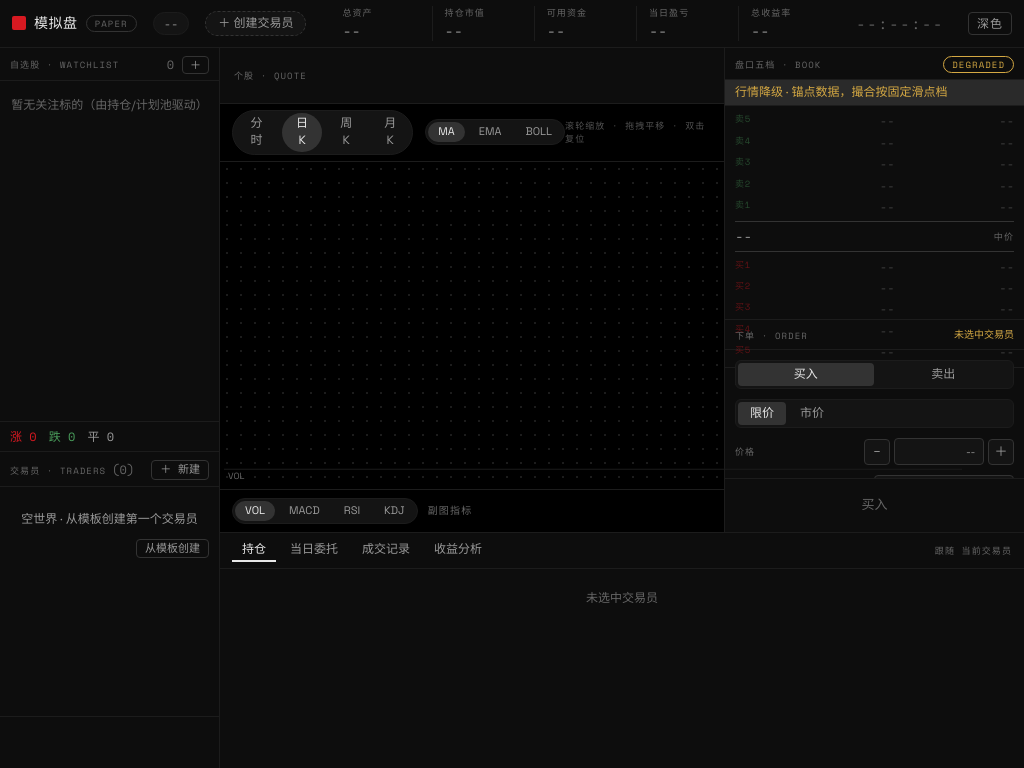
App 栅格外壳（01 §2.2 一屏五区） › 顶栏主题三态切换按钮（C002：浅色→深色→跟随系统 循环）
The width and height of the screenshot is (1024, 768).
Step 1. Click the button "深色" → point(990, 24), box left=968, top=12, right=1012, bottom=35
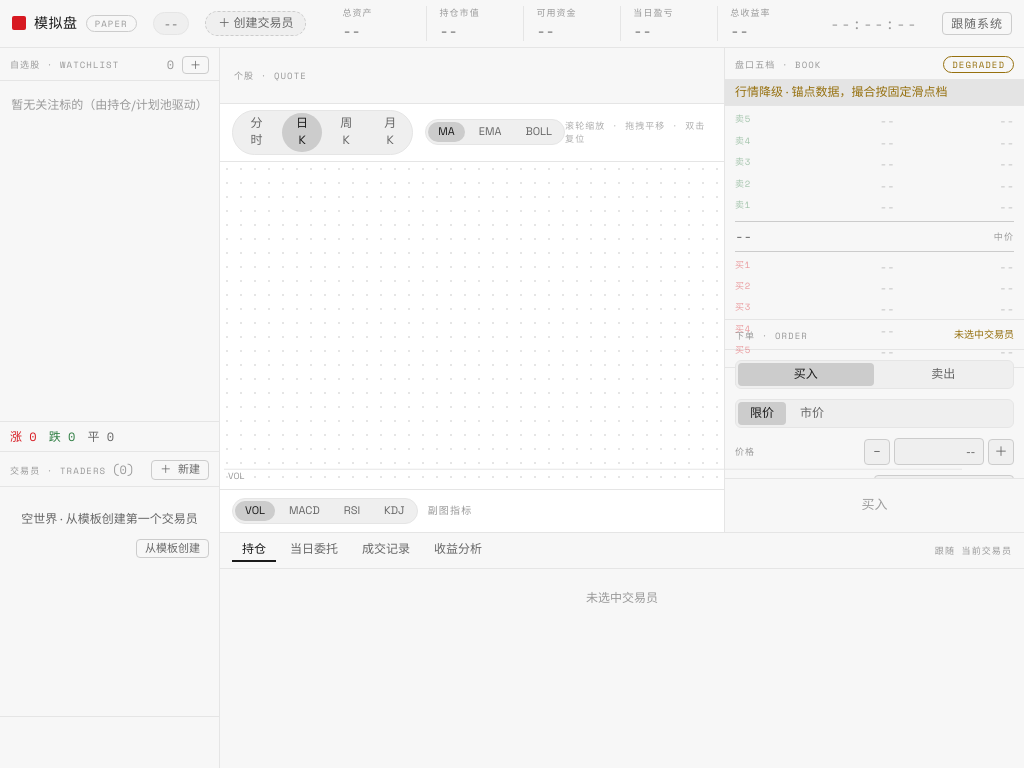
Check: the button named "深色" reads "跟随系统"
Step 2. Click the button named "深色" → point(977, 24), box left=942, top=12, right=1012, bottom=35
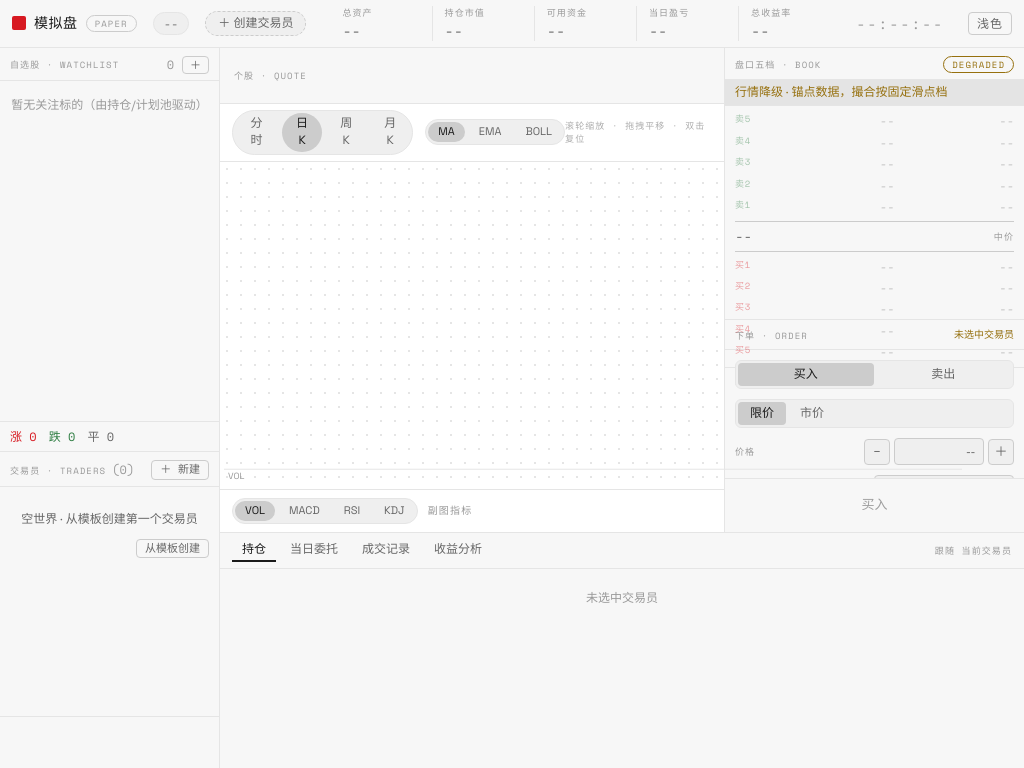
Check: the button named "深色" reads "浅色"
Step 3. Click the button named "深色" → point(990, 24), box left=968, top=12, right=1012, bottom=35
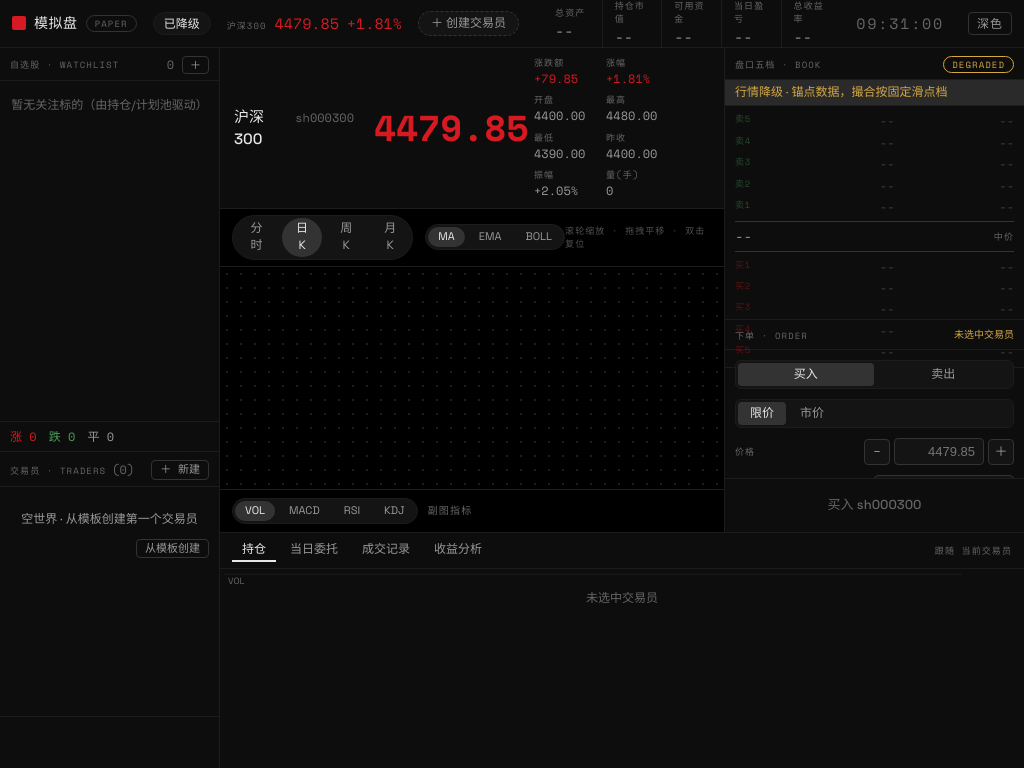
Check: the button "深色" is shown, box left=968, top=12, right=1012, bottom=35
